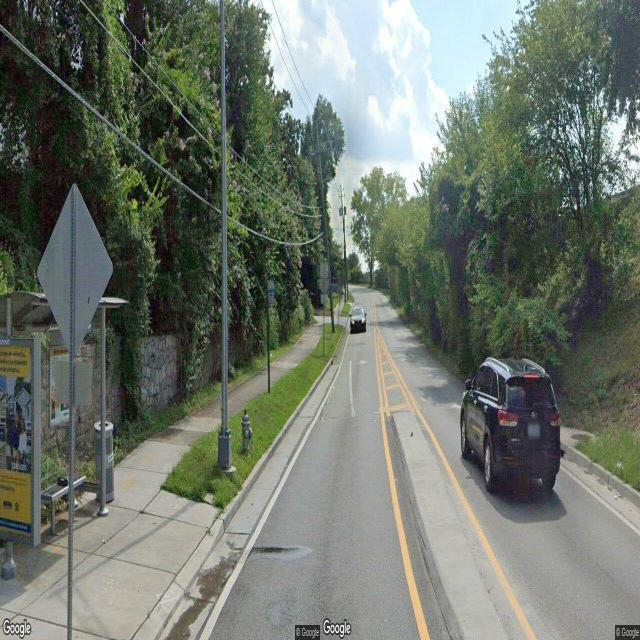seating: (42, 478, 88, 534)
shelter: (0, 292, 128, 566)
trash_can: (94, 418, 115, 507)
